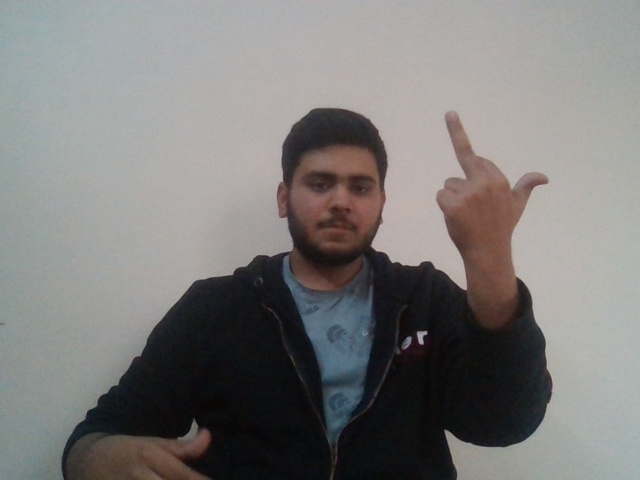Hello: (410, 101, 551, 241)
